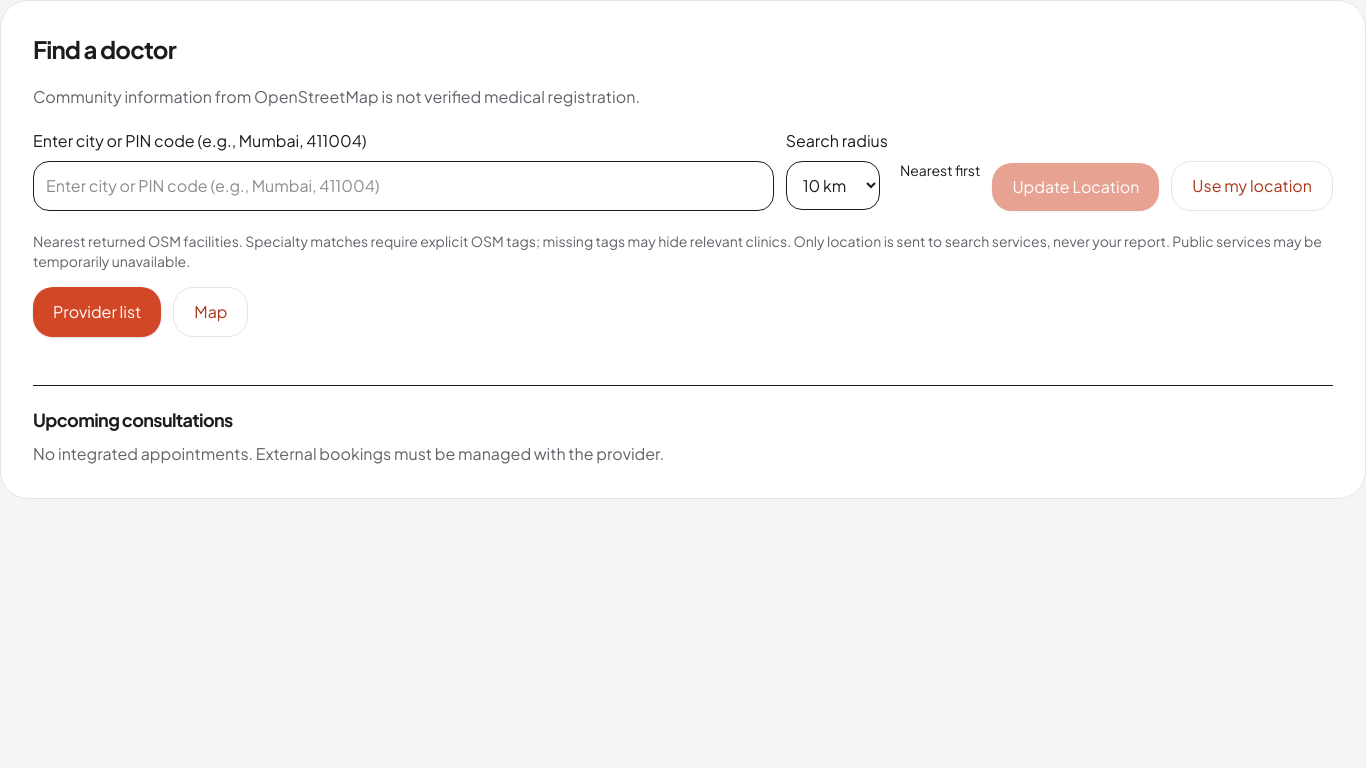
Test: handles geolocation denial and leaves manual search available
The image size is (1366, 768).
Click the button "Use my location": coordinates (1252, 186) x1=1171 y1=161 x2=1333 y2=211
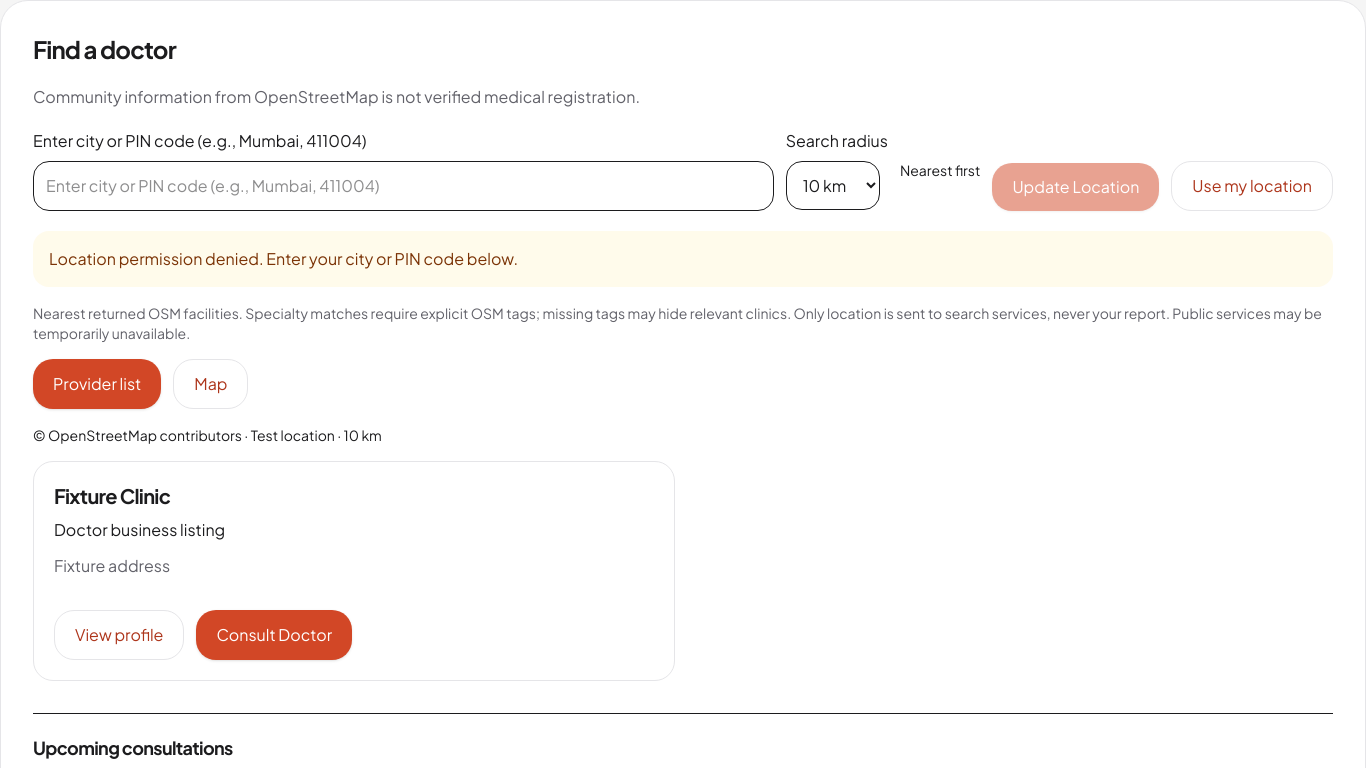
expect the field labelled "Enter city or PIN code (e.g., Mumbai, 411004)" is enabled: met, box x1=33 y1=161 x2=774 y2=211
expect the message shows "Location": met, box x1=49 y1=248 x2=518 y2=269
